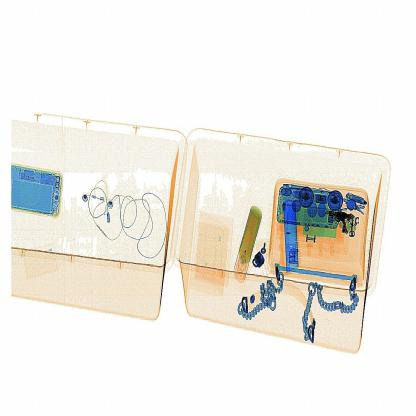pliers: (275, 192, 306, 282)
